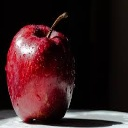apple: (6, 23, 76, 122)
